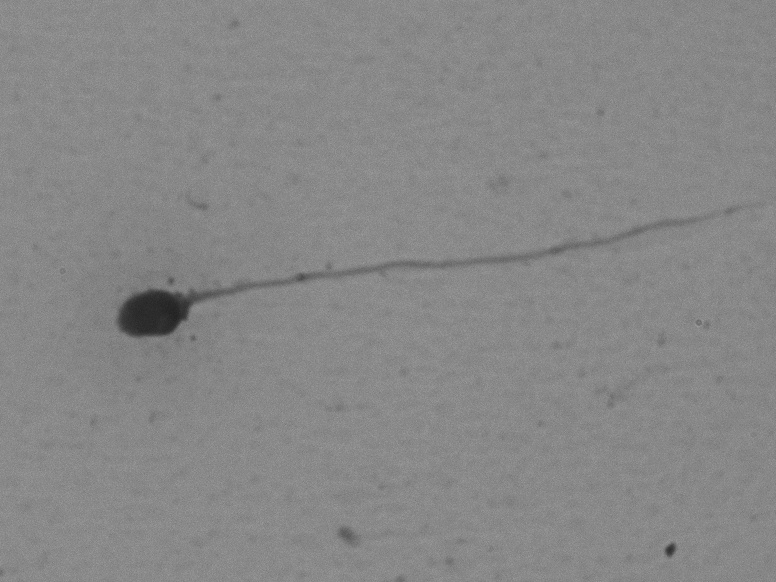Abnormal: (91, 195, 766, 351)
